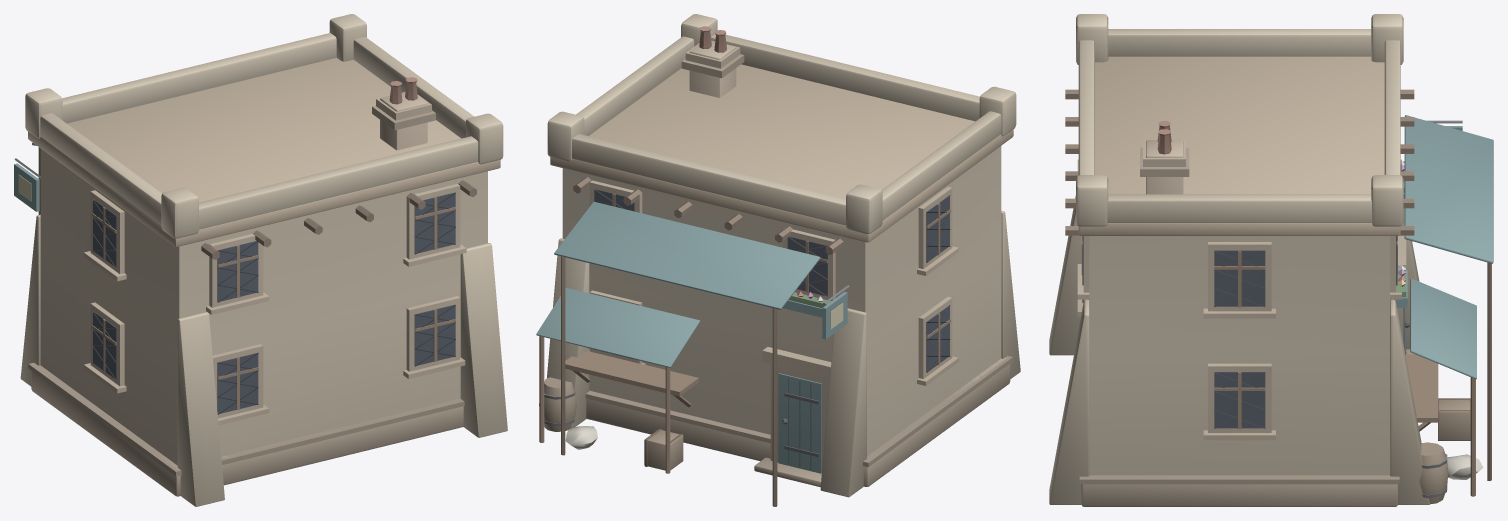
File: shop_sun.gltf
3 views of the same model, side by side, from view 1: azimuth 30°, elevation 25°; view 2: azimuth 150°, elevation 25°; view 3: azimuth 270°, elevation 25° (orthographic). The views are drawn at different scales.
Parts seen in each view (by area): view 1: Body; view 2: Body; view 3: Body.
Part boxes in pixels (left/top/right/bottom): Body: left=14, top=14, right=507, bottom=506; Body: left=536, top=14, right=1020, bottom=506; Body: left=1049, top=14, right=1493, bottom=506.
Size of the model in its own units: 7.7 by 7.22 by 8.27.
